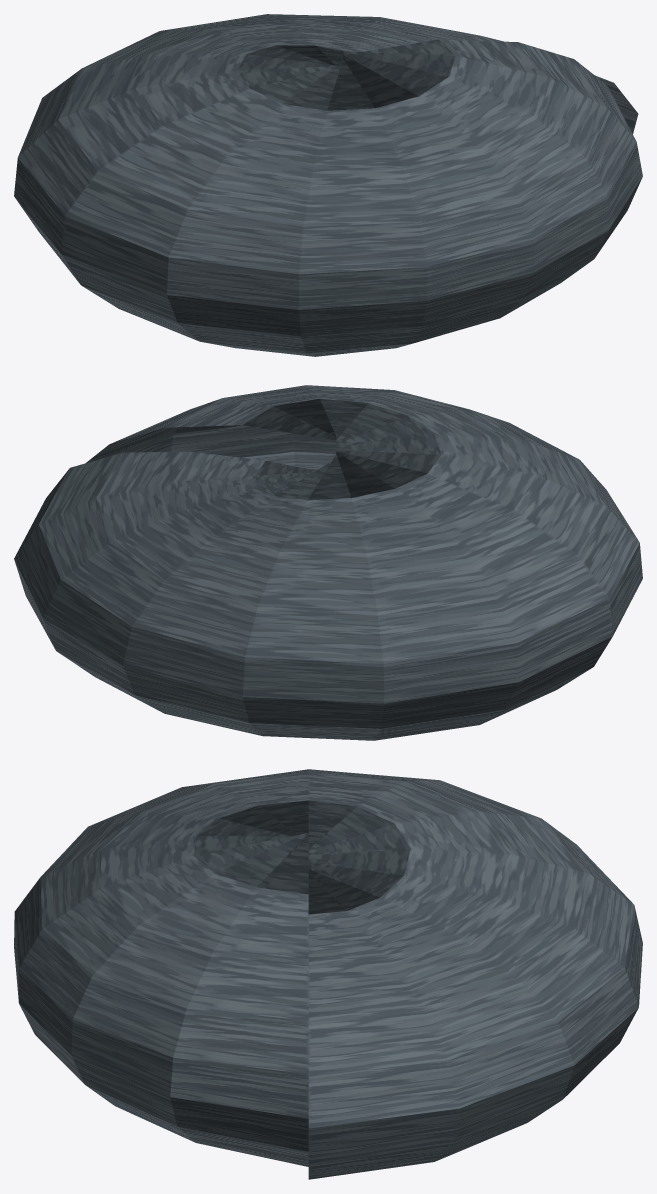
Rendered from rock_slate.glb.
The picture shows the model from 3 angles, top to bottom: view 1: azimuth 30°, elevation 25°; view 2: azimuth 150°, elevation 25°; view 3: azimuth 270°, elevation 25°; orthographic projection. The views are drawn at different scales.
Parts seen in each view (by area): view 1: rock_slate; view 2: rock_slate; view 3: rock_slate.
Boxes of the visible parts, left/top/right/bottom form: rock_slate: left=14, top=14, right=642, bottom=356; rock_slate: left=14, top=385, right=642, bottom=740; rock_slate: left=14, top=769, right=642, bottom=1179.
Bounding box in the file's own units: 1.03 × 0.4525 × 0.9168.
1 material, 1 textured.
